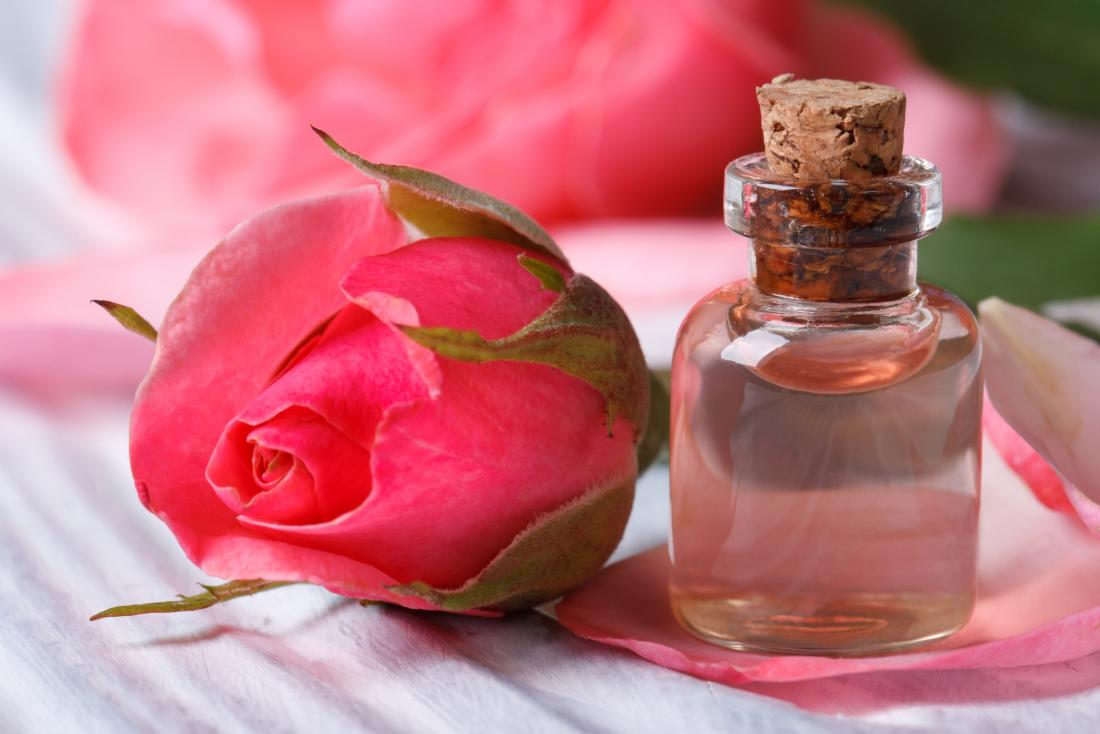rose: (112, 131, 641, 649)
